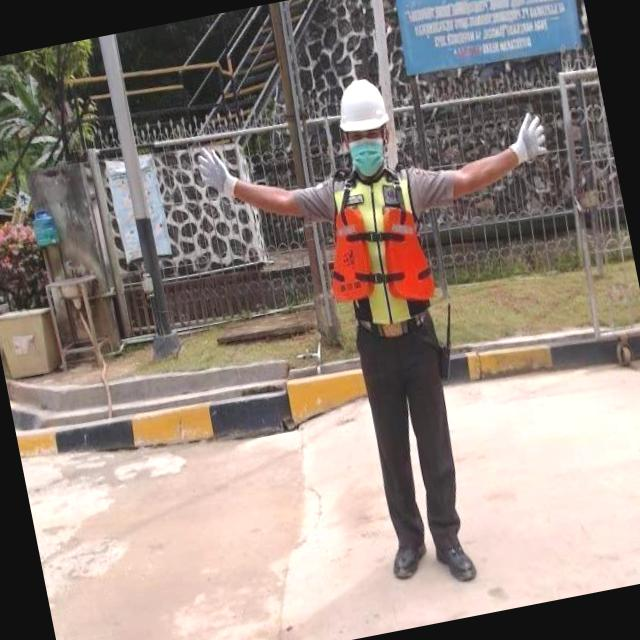vest: (309, 156, 444, 332)
